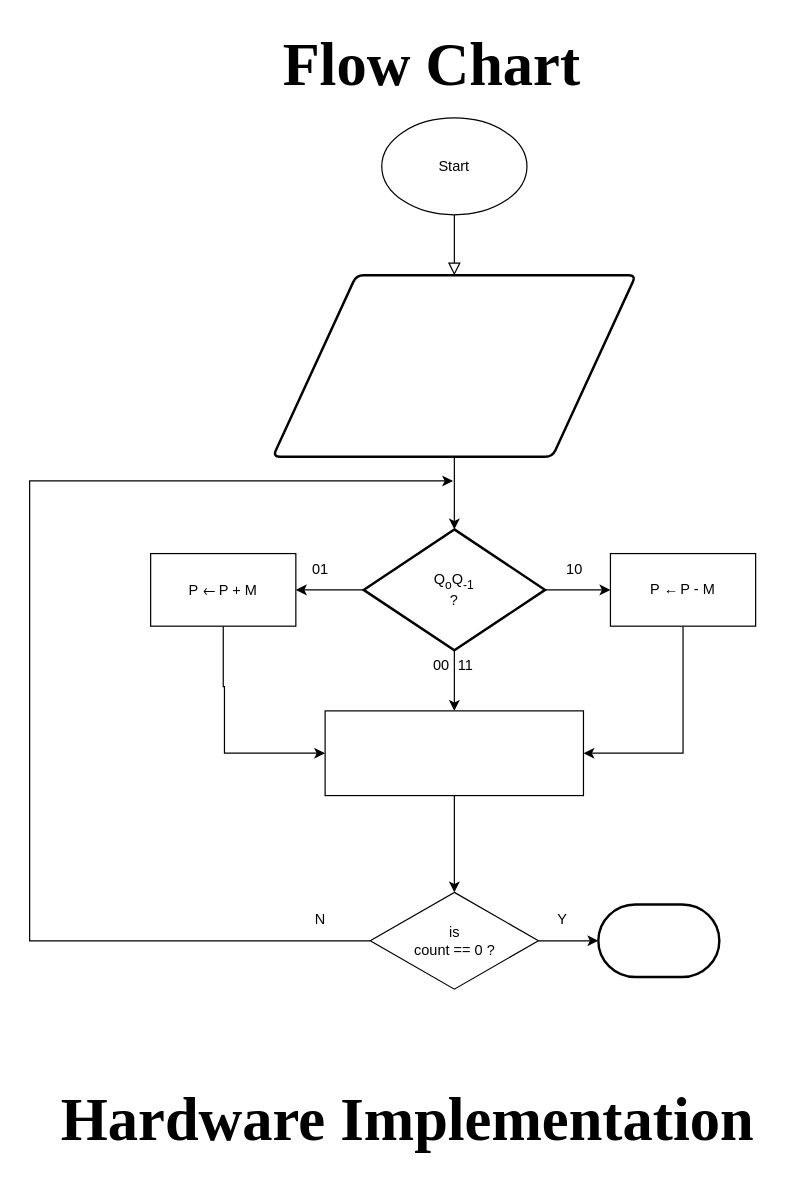
Some shapes in this 791 by 1181 pixel diagram are drawn without their labels. The shapes that lost their labels are listed below. From the top down, each one's centre as x and y in pixels, then its label:
(x=453, y=365): P ← 0, Q -1 ← 0 M lsb ← Multiplicant M msb ← 1111 Q ← Multiplier count ← n
(x=453, y=753): Shift the contents of M to the left Shit the contents of Q and Q -1 right
(x=658, y=940): stop
